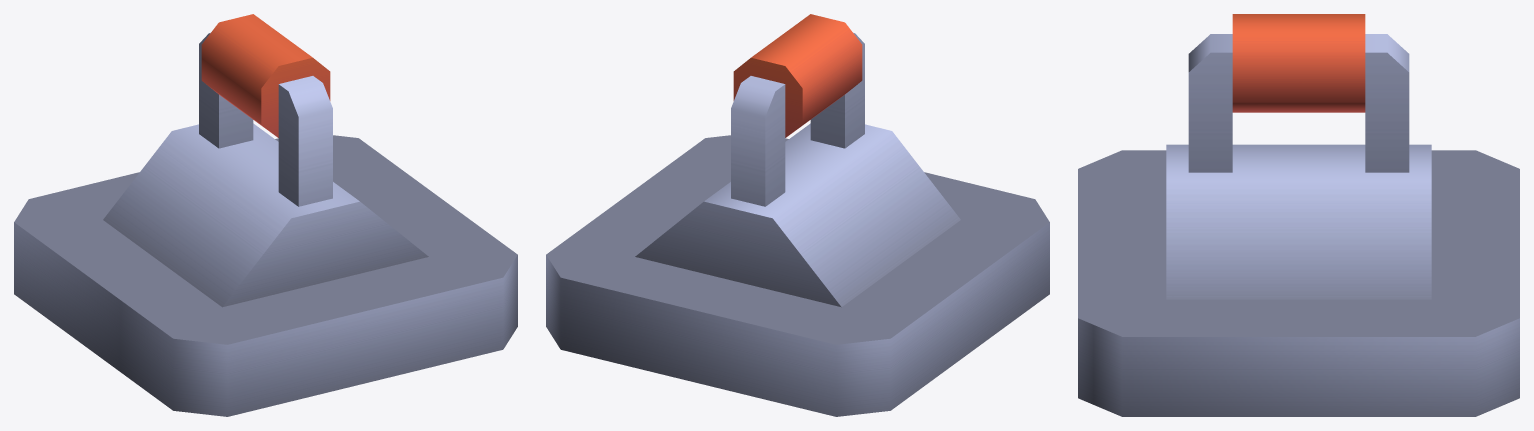
The model's file is lever-double.fbx.
The picture shows the model from 3 angles, left to right: view 1: azimuth 30°, elevation 25°; view 2: azimuth 150°, elevation 25°; view 3: azimuth 270°, elevation 25°; orthographic projection. The views are drawn at different scales.
Visible parts, largest first — view 1: lever-double, handle; view 2: lever-double, handle; view 3: lever-double, handle.
Part boxes in pixels (bbox=[...]): lever-double: bbox=[14, 123, 517, 416]; handle: bbox=[199, 14, 332, 206]; lever-double: bbox=[546, 123, 1049, 416]; handle: bbox=[731, 14, 864, 206]; lever-double: bbox=[1078, 144, 1519, 416]; handle: bbox=[1188, 14, 1409, 172].
Size of the model in its own units: 50 by 37.5 by 50.
